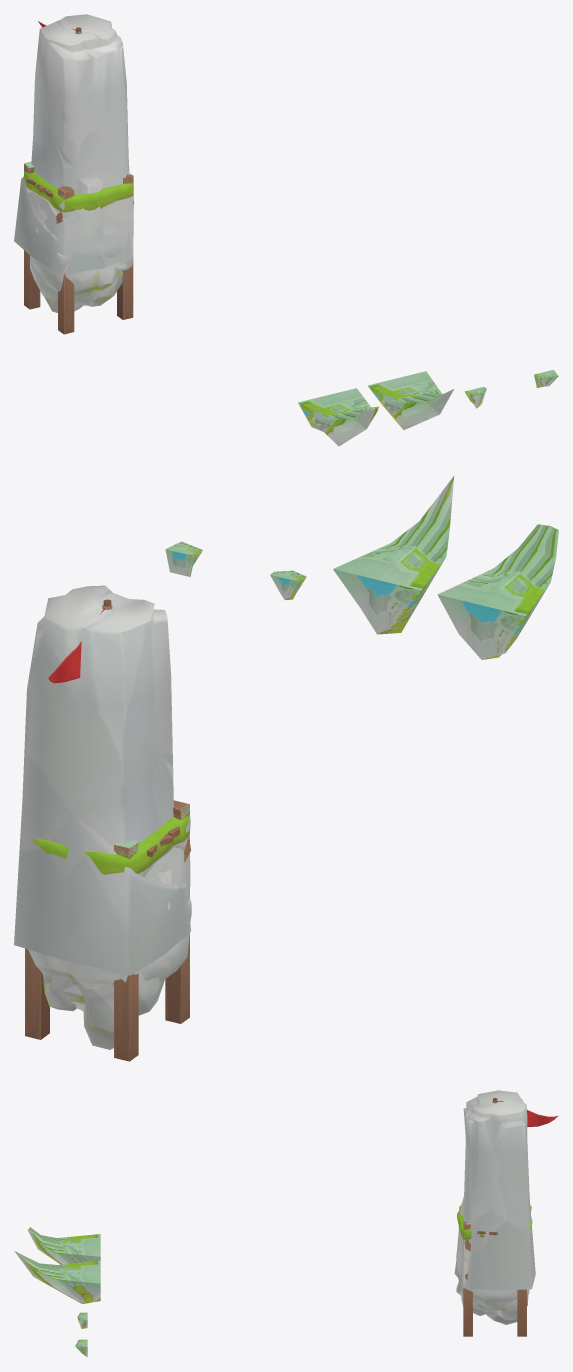
Rendered from objects_fbx_map0.glb.
3 renders of one model, top to bottom at view 1: azimuth 30°, elevation 25°; view 2: azimuth 150°, elevation 25°; view 3: azimuth 270°, elevation 25°, orthographic. The views are drawn at different scales.
Visible parts, largest first — view 1: map0_st_3, map0_block_3, map0_ap_1, map0_block_4, map0_bridge_wooden_1, map0_b_2, map0_bridge_rock_2, map0_b_3; view 2: map0_st_3, map0_block_4, map0_block_3, map0_bridge_wooden_1, map0_b_3, map0_b_2, map0_bridge_rock_2, map0_block_1, map0_flag; view 3: map0_st_3, map0_block_3, map0_block_4, map0_b_3, map0_b_2, map0_bridge_wooden_2, map0_bridge_wooden_1.
Part boxes in pixels (<box>): map0_st_3: <box>14,14,131,273</box>; map0_block_3: <box>367,371,453,429</box>; map0_ap_1: <box>64,199,133,272</box>; map0_block_4: <box>298,388,378,446</box>; map0_bridge_wooden_1: <box>24,162,133,334</box>; map0_b_2: <box>30,255,133,305</box>; map0_bridge_rock_2: <box>24,171,133,217</box>; map0_b_3: <box>30,256,122,312</box>; map0_st_3: <box>14,585,190,975</box>; map0_block_4: <box>437,524,558,659</box>; map0_block_3: <box>333,475,454,634</box>; map0_bridge_wooden_1: <box>25,805,190,1061</box>; map0_b_3: <box>43,973,164,1049</box>; map0_b_2: <box>28,933,189,1011</box>; map0_bridge_rock_2: <box>33,815,189,877</box>; map0_block_1: <box>165,541,202,576</box>; map0_flag: <box>48,608,104,683</box>; map0_st_3: <box>454,1090,535,1290</box>; map0_block_3: <box>14,1251,100,1304</box>; map0_block_4: <box>27,1227,100,1264</box>; map0_b_3: <box>461,1294,528,1324</box>; map0_b_2: <box>456,1281,529,1315</box>; map0_bridge_wooden_2: <box>463,1220,526,1336</box>; map0_bridge_wooden_1: <box>463,1231,479,1336</box>.
Bounding box in the file's own units: 3.75 × 3.94 × 8.56.
3 materials, 3 textured.
